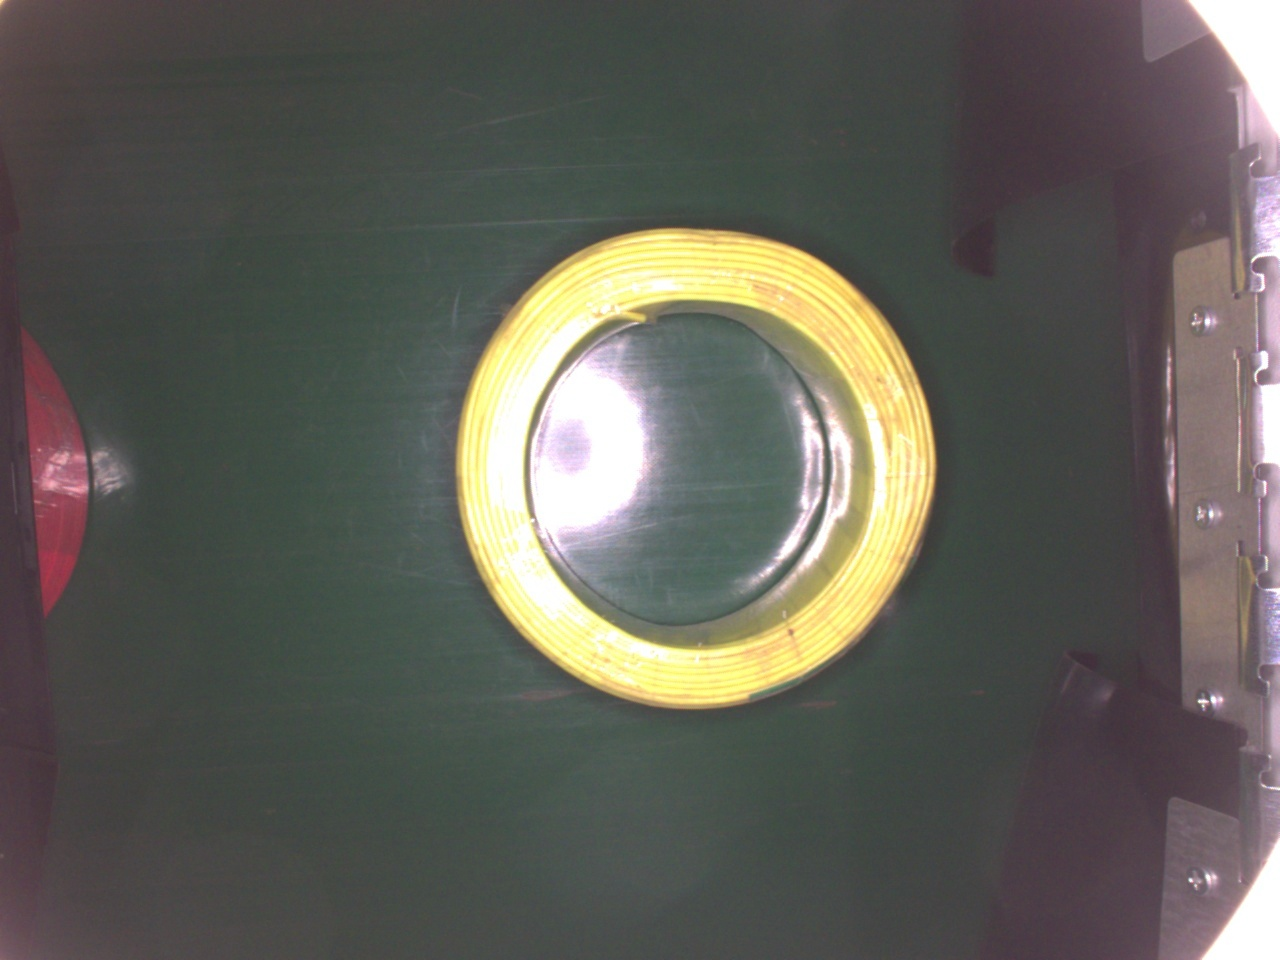yellow: (456, 222, 950, 717)
